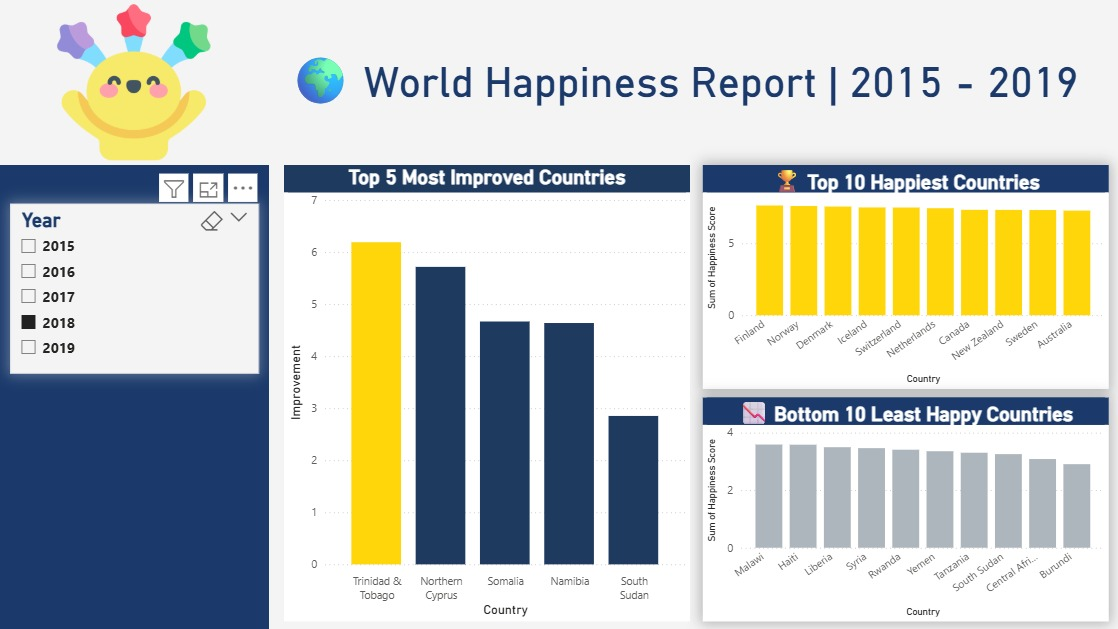

This screenshot's page, from the dashboard's own definition file:
{"tool":"powerbi","page":{"name":"Page 2","canvas":[1280,720],"ordinal":1},"visuals":[{"type":"shape","box":[0,188.6,308.6,531.4],"z":0},{"type":"textbox","box":[325.7,48.6,928.6,91.4],"z":1000},{"type":"image","box":[0,0,308.6,188.6],"z":2000},{"type":"clusteredColumnChart","title":"🏆 Top 10 Happiest Countries","fields":{"Y":["Sum(allData.Happiness Score)"],"Category":["allData.Country"]},"box":[804.3,188.6,464.3,255.7],"z":3000},{"type":"slicer","fields":{"Values":["allData.Year"]},"box":[13.3,233.3,283.3,193.3],"z":4000},{"type":"clusteredColumnChart","title":"📉 Bottom 10 Least Happy Countries","fields":{"Y":["Sum(allData.Happiness Score)"],"Category":["allData.Country"]},"box":[804.3,454.3,464.3,255.7],"z":5000},{"type":"clusteredColumnChart","title":"Top 5 Most Improved Countries","fields":{"Category":["allData.Country"],"Y":["allData.Improvement"]},"box":[325.7,188.6,464.3,521.4],"z":6000}]}

Visuals, with their boxes in screenshot pixels (x1, y1, x2, y2), scaled from the page's 1280x720 canvas onto the 1118x629 screenshot:
shape: select_region(0, 165, 270, 628)
textbox: select_region(284, 42, 1096, 122)
image: select_region(0, 0, 270, 165)
"🏆 Top 10 Happiest Countries" clusteredColumnChart: select_region(703, 165, 1108, 388)
slicer - allData.Year: select_region(12, 204, 259, 373)
"📉 Bottom 10 Least Happy Countries" clusteredColumnChart: select_region(703, 397, 1108, 620)
"Top 5 Most Improved Countries" clusteredColumnChart: select_region(284, 165, 690, 620)
